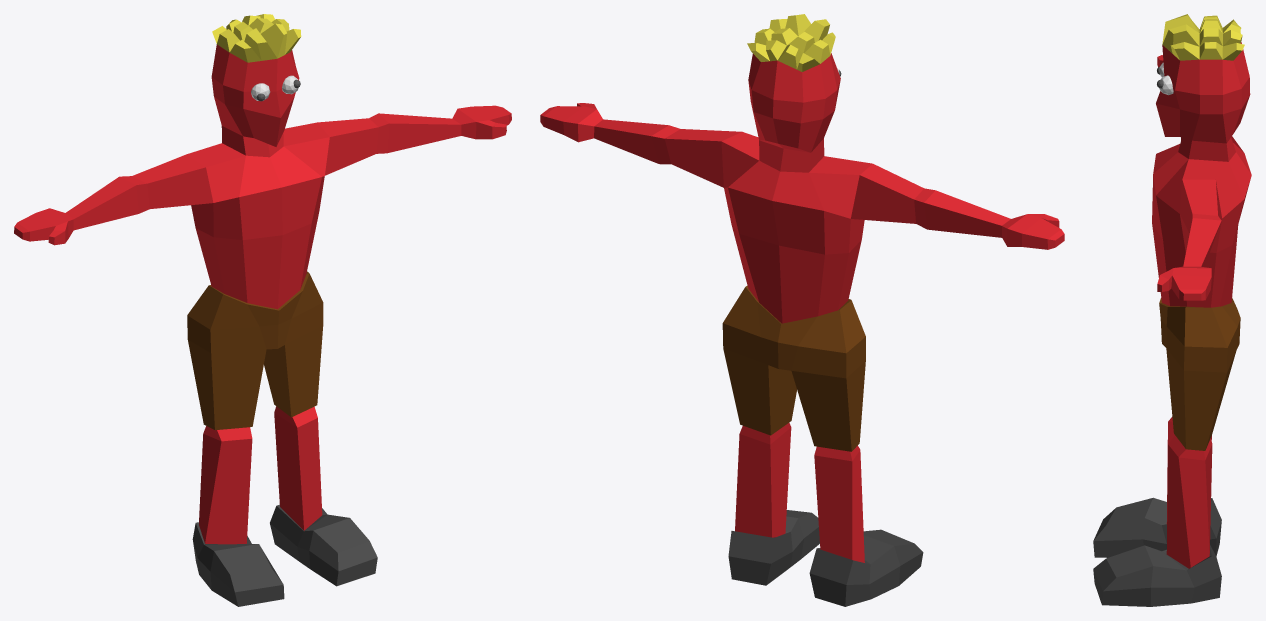
File: Player.fbx
3 renders of one model, left to right at view 1: azimuth 30°, elevation 25°; view 2: azimuth 150°, elevation 25°; view 3: azimuth 270°, elevation 25°, orthographic. The views are drawn at different scales.
Parts seen in each view (by area): view 1: Cube.004; view 2: Cube.004; view 3: Cube.004.
Part boxes in pixels (<box>): Cube.004: <box>14,14,511,606</box>; Cube.004: <box>540,14,1064,606</box>; Cube.004: <box>1093,14,1251,606</box>.
Size of the model in its own units: 1352 by 1412 by 368.
